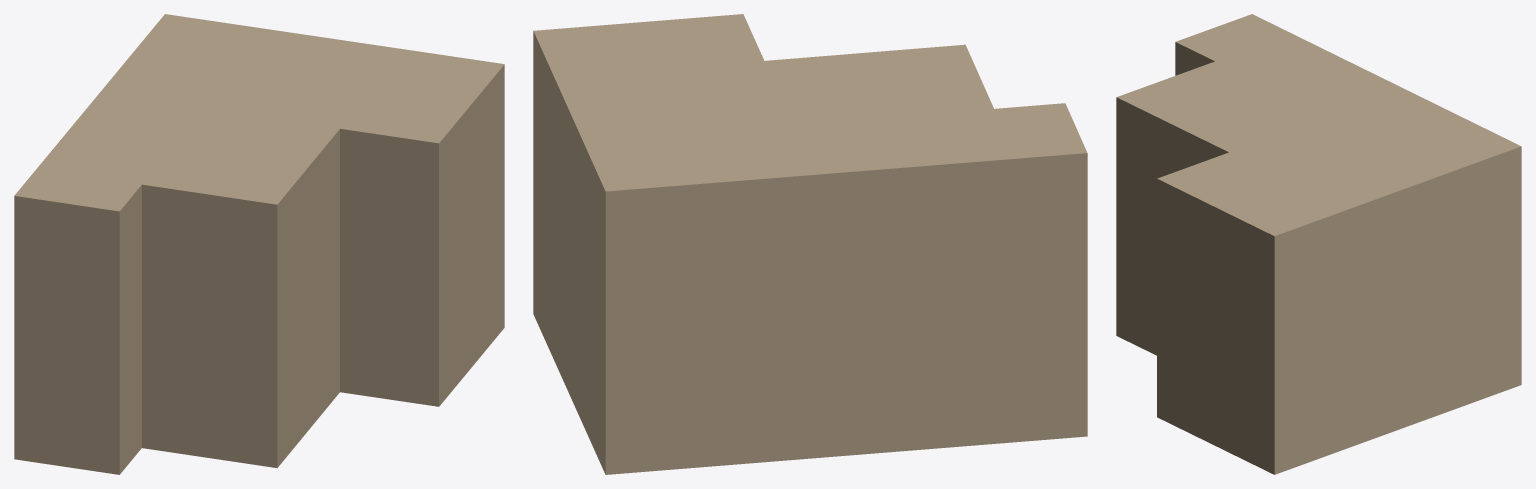
Rendered from bld_99589050.dae.
3 renders of one model, left to right at view 1: azimuth 30°, elevation 25°; view 2: azimuth 150°, elevation 25°; view 3: azimuth 270°, elevation 25°, orthographic. The views are drawn at different scales.
Visible parts, largest first — view 1: bld_99589050; view 2: bld_99589050; view 3: bld_99589050.
Boxes of the visible parts, <box> form: bld_99589050: <box>14,14,504,474</box>; bld_99589050: <box>533,14,1087,474</box>; bld_99589050: <box>1116,14,1521,474</box>.
Size of the model in its own units: 15.98 by 12.3 by 8.
